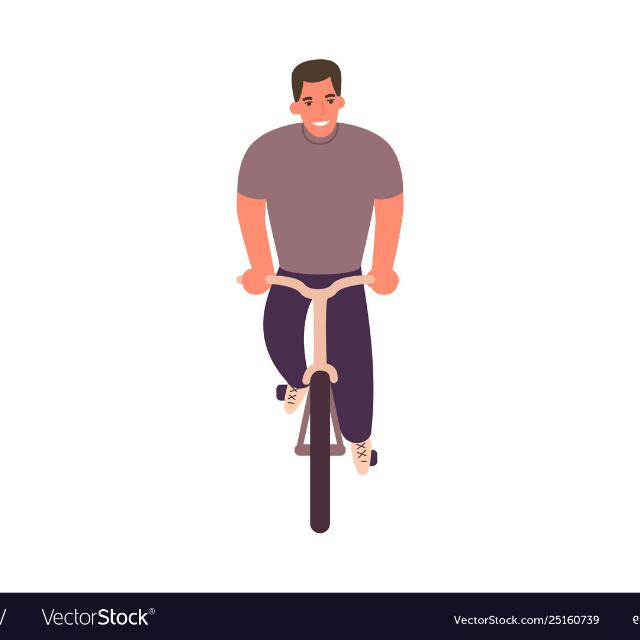obstacle: (232, 262, 420, 546)
